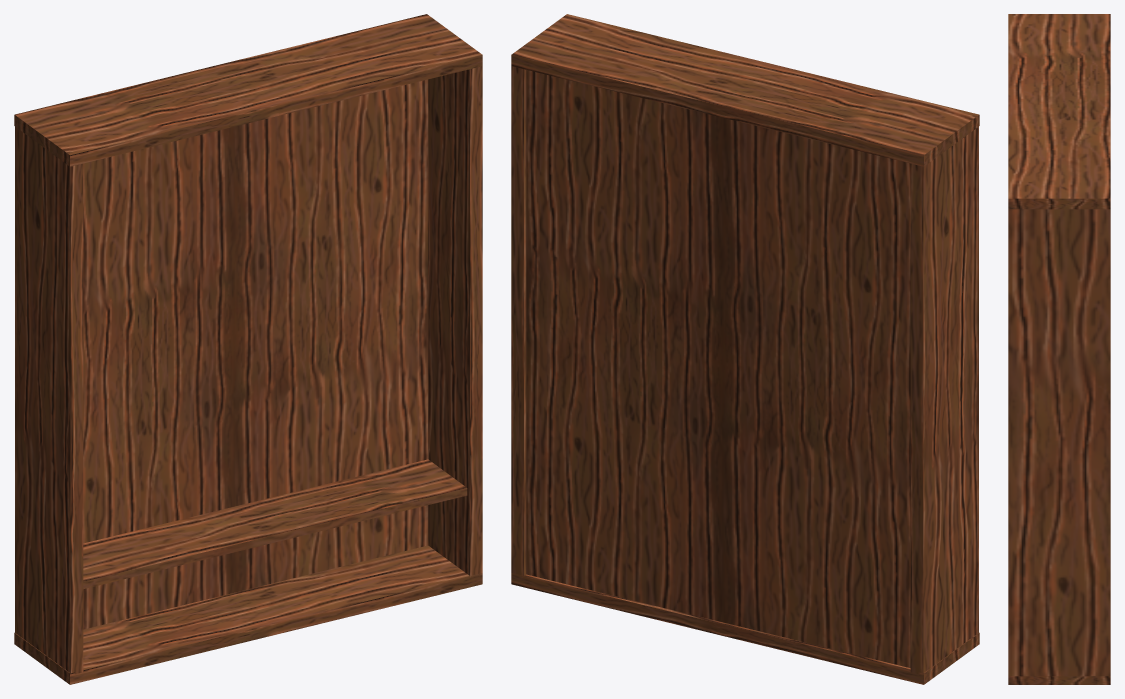
Rendered from bookshelf.glb.
The picture shows the model from 3 angles, left to right: view 1: azimuth 30°, elevation 25°; view 2: azimuth 150°, elevation 25°; view 3: azimuth 270°, elevation 25°; orthographic projection. The views are drawn at different scales.
Parts seen in each view (by area): view 1: Cube.004, Cube.002, Cube.001, Cube.003, Cube, Cube.005; view 2: Cube.004, Cube.002, Cube.001, Cube.003, Cube; view 3: Cube.003, Cube.001, Cube.
Boxes of the visible parts, bbox=[...] form: Cube.004: bbox=[83, 79, 428, 629]; Cube.002: bbox=[15, 127, 83, 673]; Cube.001: bbox=[14, 14, 482, 166]; Cube.003: bbox=[428, 66, 482, 576]; Cube: bbox=[14, 545, 482, 684]; Cube.005: bbox=[83, 459, 467, 588]; Cube.004: bbox=[526, 70, 910, 667]; Cube.002: bbox=[910, 127, 978, 673]; Cube.001: bbox=[511, 14, 979, 166]; Cube.003: bbox=[511, 66, 526, 577]; Cube: bbox=[511, 573, 979, 684]; Cube.003: bbox=[1008, 209, 1110, 676]; Cube.001: bbox=[1008, 14, 1110, 209]; Cube: bbox=[1008, 676, 1110, 684].
Bounding box in the file's own units: 8.57 × 10.51 × 2.
Materials: 2 (2 with a texture image).
